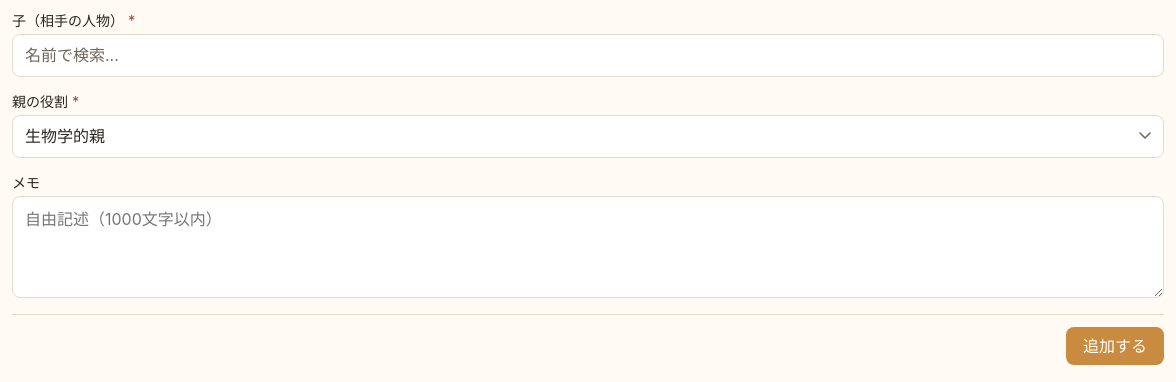
Test case: PersonSearchCombobox › オプションクリック → input に displayName がセット、listbox が閉じる
Type "田中" into the field with placeholder "名前で検索...". click: (588, 55)
box: [13,34,1163,76]
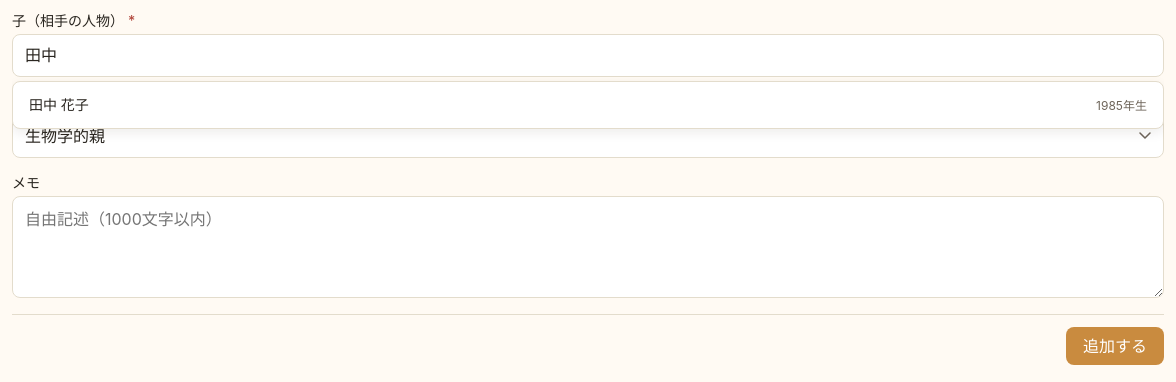
Click the text "田中 花子". click: (59, 105)
box: [29,94,89,116]
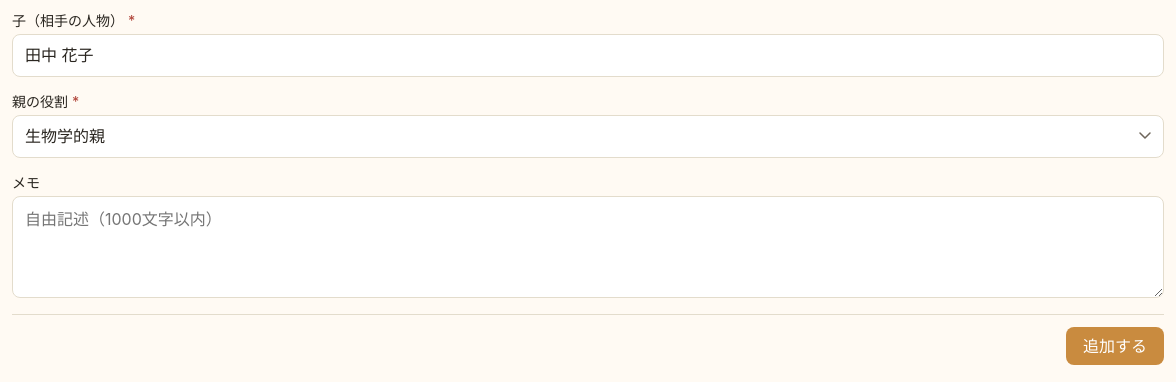
Expected: the field with placeholder "名前で検索..." holds "田中 花子", [13,34,1163,76]
Expected: the list is gone
